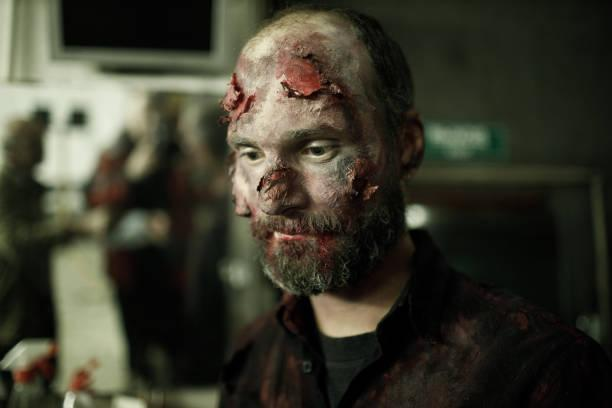Zombie: (220, 13, 402, 300)
